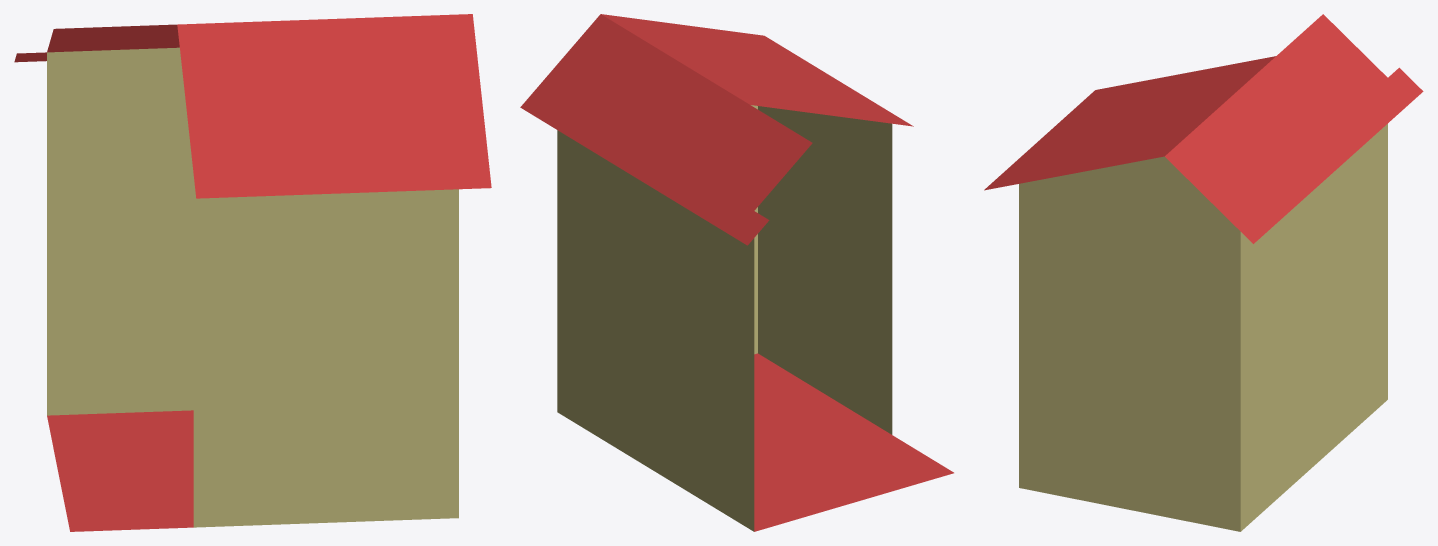
3 renders of one model, left to right at view 1: azimuth 30°, elevation 25°; view 2: azimuth 150°, elevation 25°; view 3: azimuth 270°, elevation 25°, orthographic. The views are drawn at different scales.
Size of the model in its own units: 12.69 by 12.33 by 11.53.
